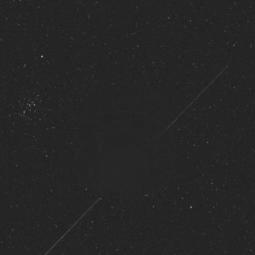double_start: (76, 94, 196, 204)
